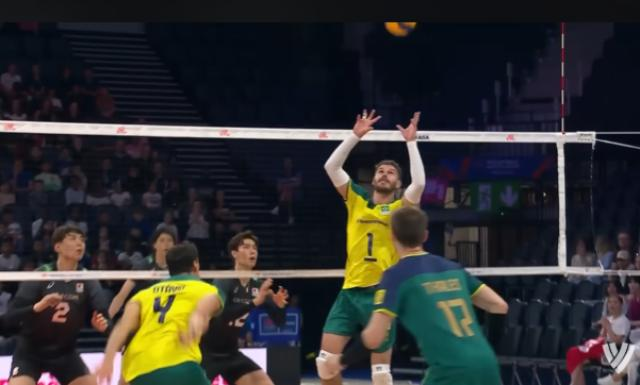Libero: (372, 14, 433, 46)
